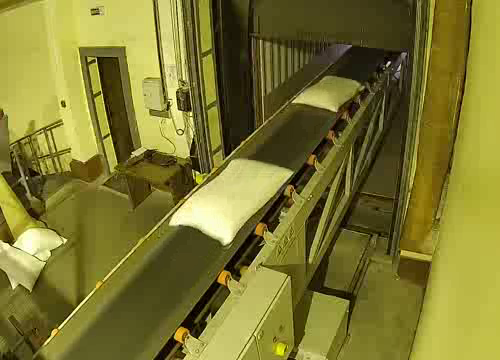bag: (167, 144, 298, 255), (290, 69, 372, 124)
